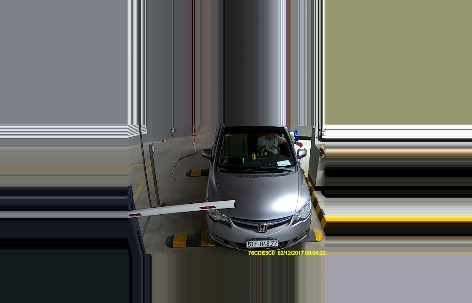plate: (246, 236, 278, 248)
